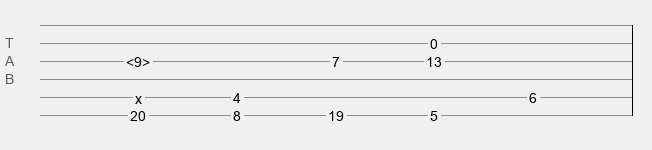0: (430, 36, 438, 46)
13: (426, 54, 442, 64)
19: (328, 108, 344, 118)
20: (130, 108, 146, 118)
4: (233, 90, 241, 100)
5: (430, 108, 438, 118)
6: (529, 90, 537, 100)
7: (332, 54, 340, 64)
8: (233, 108, 241, 118)
harmonic: (126, 54, 150, 64)
x: (135, 91, 142, 99)
